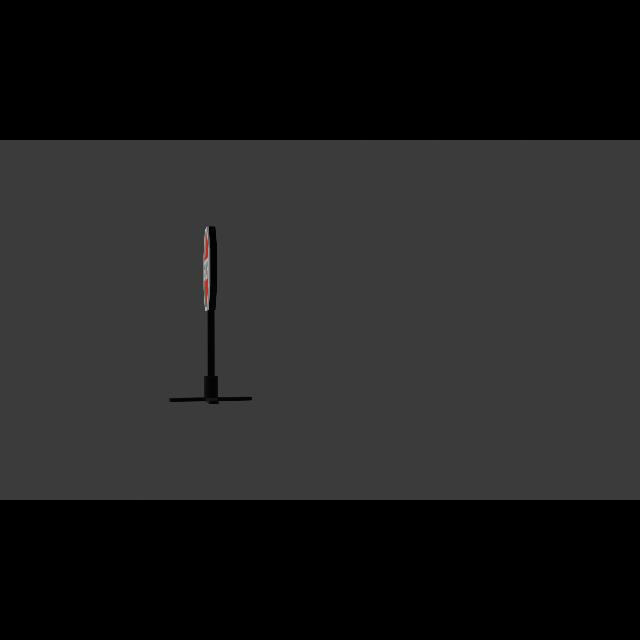sign_stop: (204, 226, 219, 312)
